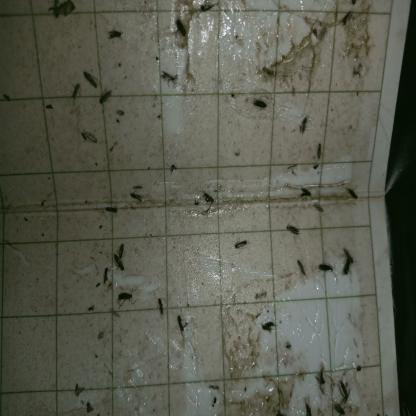prays_oleae: (173, 15, 189, 43), (251, 91, 269, 114), (80, 68, 98, 91), (341, 251, 356, 278), (81, 124, 99, 146), (159, 64, 177, 84), (346, 183, 360, 207), (117, 288, 133, 308), (294, 257, 310, 277), (105, 199, 120, 220), (338, 378, 351, 402), (100, 86, 114, 108), (101, 262, 111, 292), (202, 187, 216, 208), (68, 80, 82, 101), (285, 220, 301, 238), (113, 255, 126, 276), (320, 258, 334, 277), (340, 8, 352, 30), (233, 235, 248, 252), (131, 187, 144, 206), (155, 294, 166, 316), (261, 316, 276, 332), (107, 31, 125, 44), (299, 182, 311, 200), (176, 312, 186, 333), (332, 398, 345, 414), (316, 138, 324, 162), (303, 400, 314, 416), (313, 202, 326, 214), (118, 242, 126, 260), (210, 395, 220, 409)
